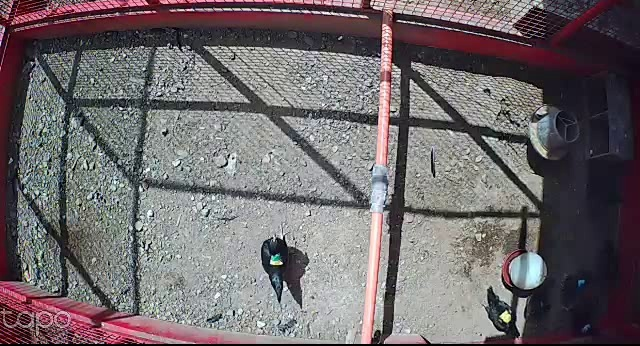Chicken: (477, 285, 525, 341), (260, 232, 294, 303)
Drinker: (503, 249, 548, 294)
Feeder: (528, 103, 582, 164)
Saddle_Color_Blue: (577, 279, 585, 288)
Saddle_Color_Yellow: (499, 309, 512, 323)
Saddle_Color_YellowGreen: (270, 253, 285, 266)
